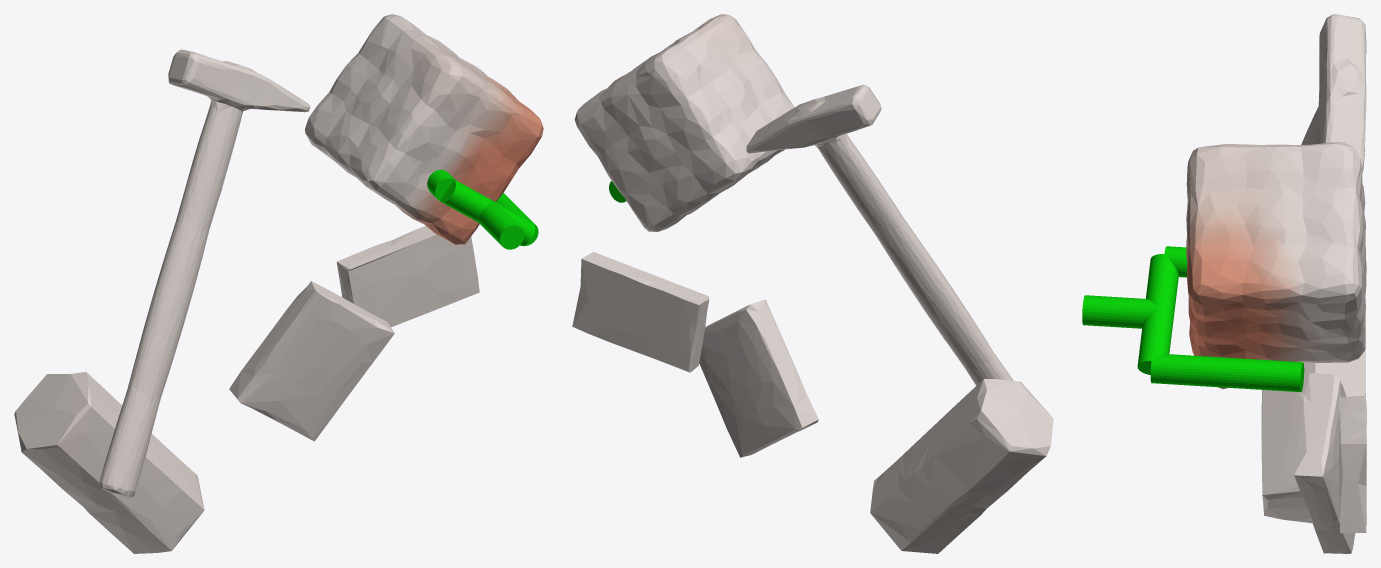
The model's file is round_000_trial_000.obj.
The picture shows the model from 3 angles, left to right: view 1: azimuth 30°, elevation 25°; view 2: azimuth 150°, elevation 25°; view 3: azimuth 270°, elevation 25°; orthographic projection. The views are drawn at different scales.
Parts seen in each view (by area): view 1: geometry_0, geometry_1; view 2: geometry_0; view 3: geometry_0, geometry_1.
Boxes of the visible parts, x1,y1,x2,y2 form: geometry_0: (14, 14, 543, 553); geometry_1: (427, 170, 538, 249); geometry_0: (572, 14, 1053, 553); geometry_0: (1186, 14, 1366, 553); geometry_1: (1082, 246, 1304, 392).
Bounding box in the file's own units: 0.2079 × 0.1997 × 0.0942.
